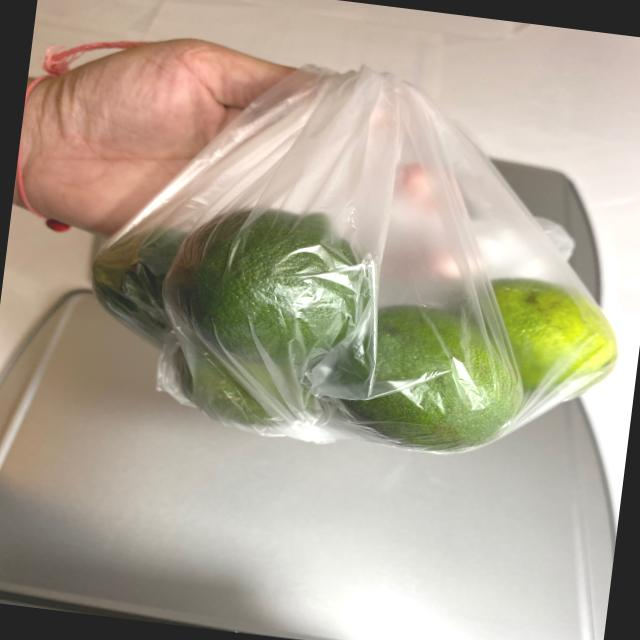lemon: (64, 188, 627, 476)
